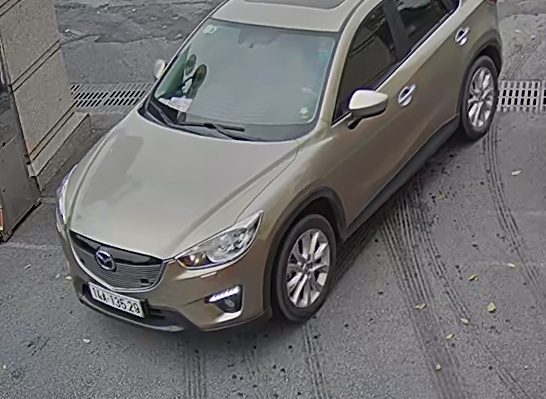vehicle plate: (80, 276, 145, 318)
